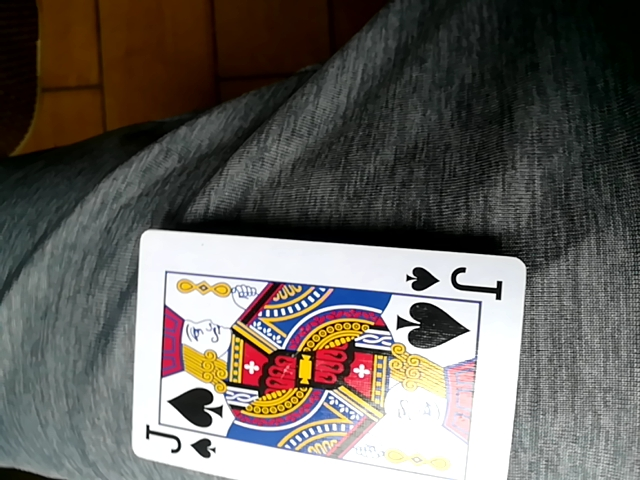ht j: (131, 226, 527, 479)
